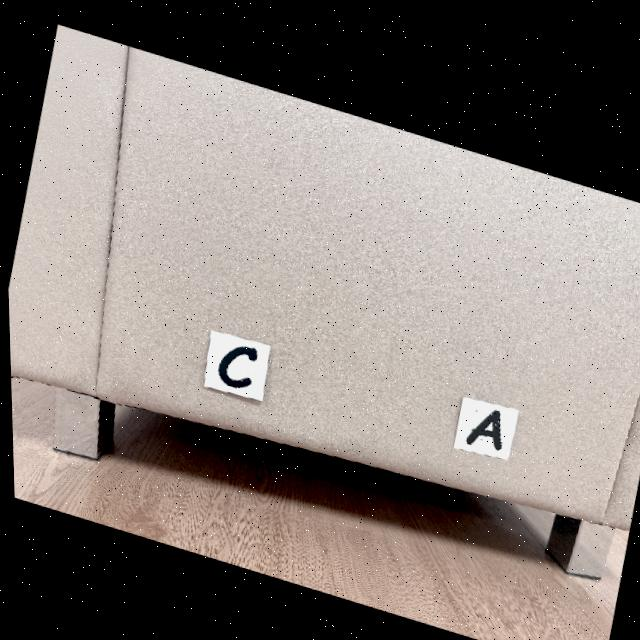A: (463, 400, 499, 441)
C: (216, 341, 255, 383)
